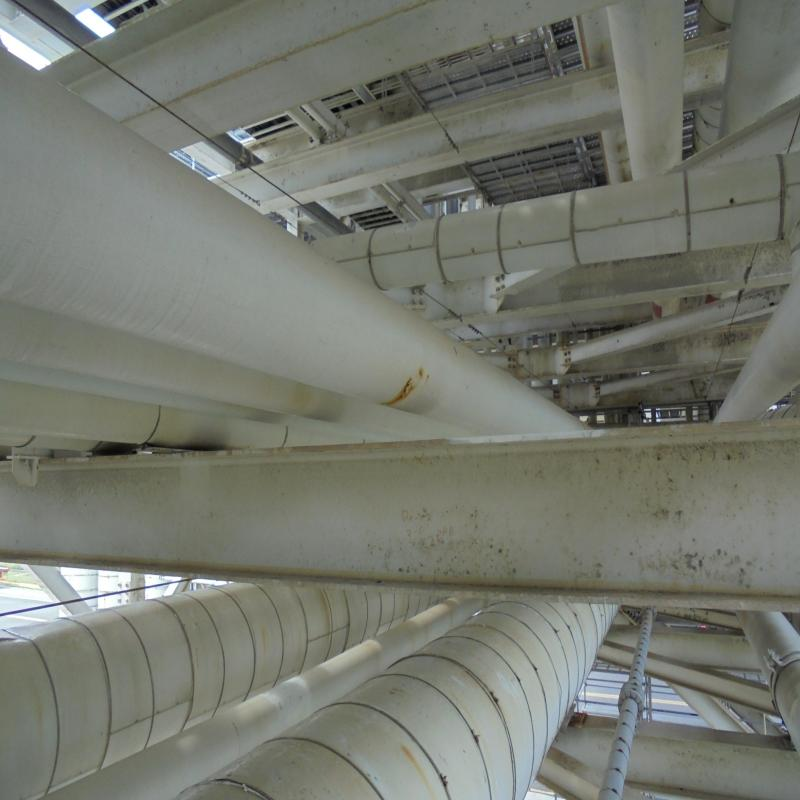corrosion: (394, 368, 412, 414)
